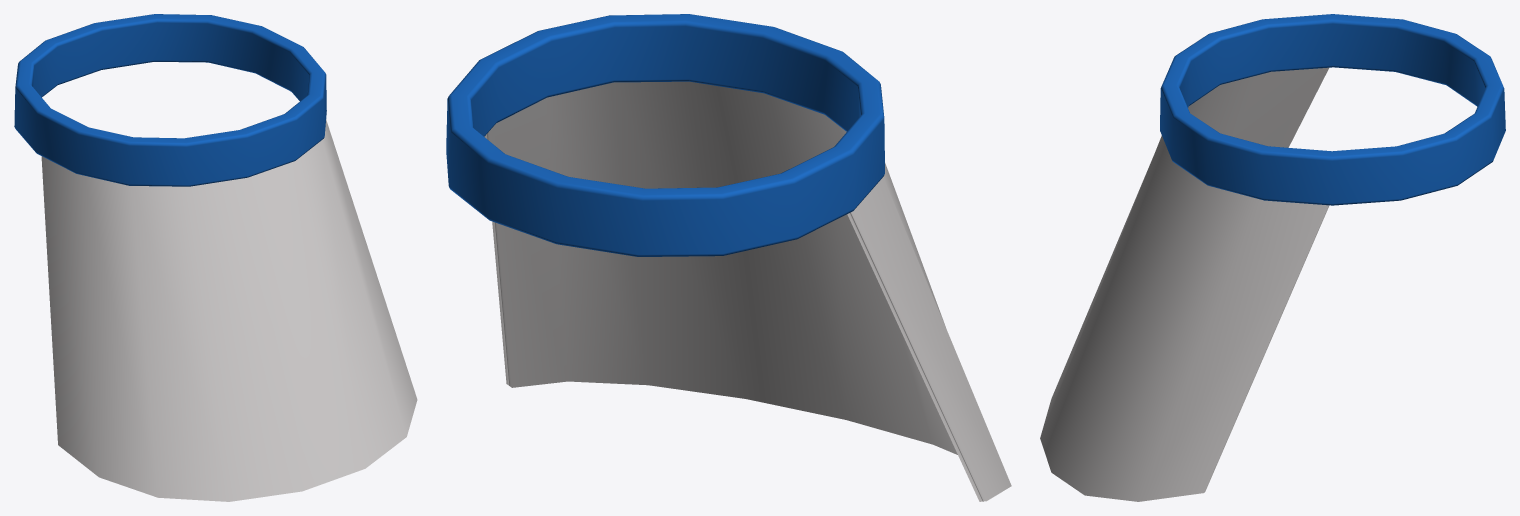
The model's file is mask_2.fbx.
The picture shows the model from 3 angles, left to right: view 1: azimuth 30°, elevation 25°; view 2: azimuth 150°, elevation 25°; view 3: azimuth 270°, elevation 25°; orthographic projection. The views are drawn at different scales.
Parts seen in each view (by area): view 1: mask_2; view 2: mask_2; view 3: mask_2.
Boxes of the visible parts, box(x1,y1,x2,y2) form: mask_2: box(14, 14, 417, 501); mask_2: box(446, 14, 1011, 501); mask_2: box(1040, 14, 1505, 501).
Size of the model in its own units: 139 by 124 by 147.
